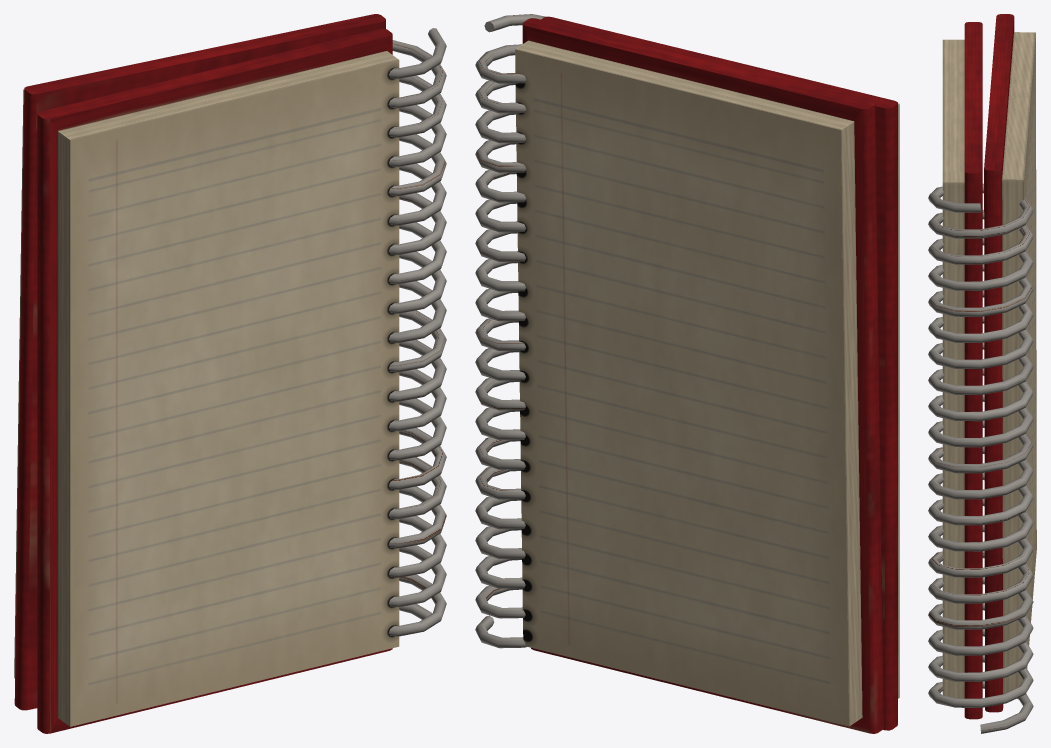
File: caderno_dobrado_tasks.glb
3 renders of one model, left to right at view 1: azimuth 30°, elevation 25°; view 2: azimuth 150°, elevation 25°; view 3: azimuth 270°, elevation 25°, orthographic. The views are drawn at different scales.
Parts seen in each view (by area): view 1: Caderno_Frente, Caderno_Mola, Caderno_Verso; view 2: Caderno_Verso, Caderno_Mola, Caderno_Frente; view 3: Caderno_Mola, Caderno_Verso, Caderno_Frente.
Boxes of the visible parts, bbox=[...] form: Caderno_Frente: bbox=[37, 28, 399, 733]; Caderno_Mola: bbox=[388, 28, 446, 636]; Caderno_Verso: bbox=[14, 14, 385, 710]; Caderno_Verso: bbox=[515, 18, 883, 733]; Caderno_Mola: bbox=[475, 14, 545, 648]; Caderno_Frente: bbox=[541, 16, 899, 730]; Caderno_Mola: bbox=[928, 183, 1033, 733]; Caderno_Verso: bbox=[984, 14, 1036, 712]; Caderno_Frente: bbox=[942, 22, 982, 719].
Size of the model in its own units: 1.16 by 1.71 by 0.3033.
Materials: 3 (3 with a texture image).
